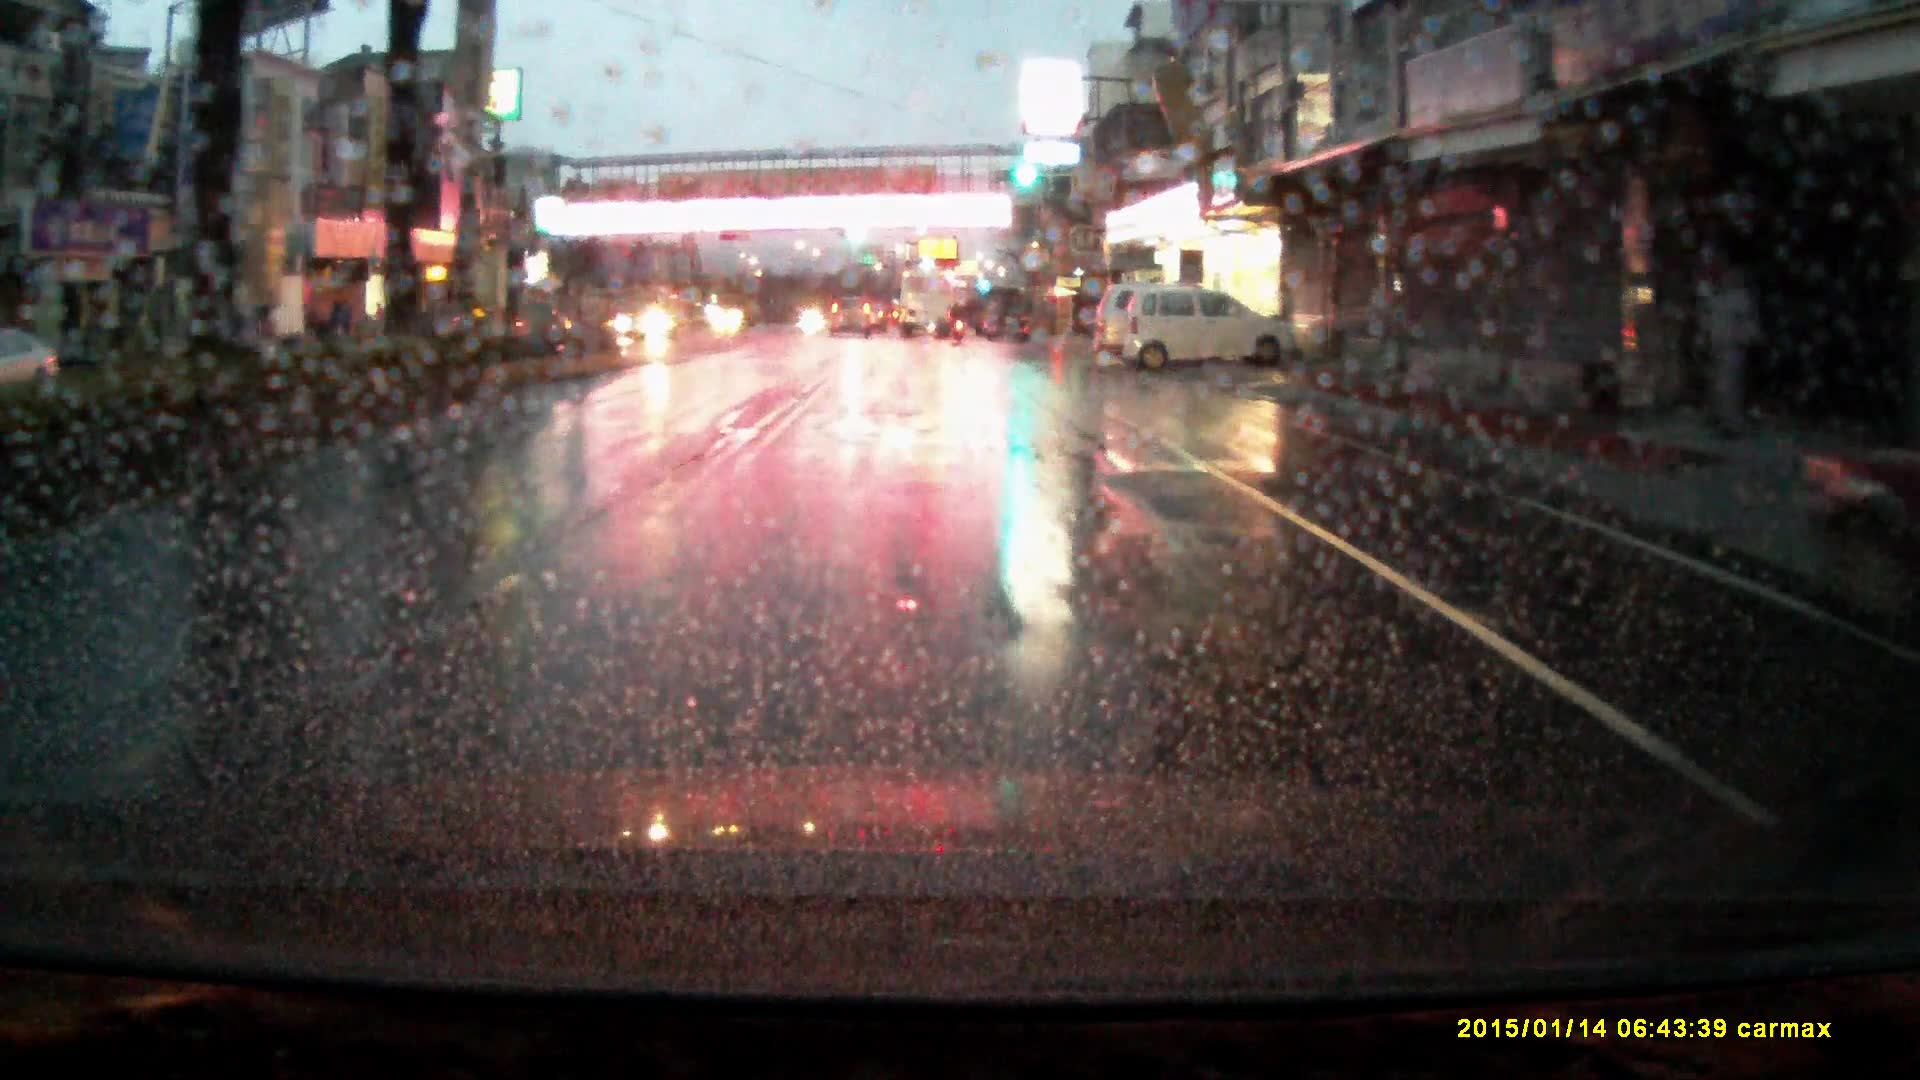rider: (951, 301, 971, 347)
vehicle: (1120, 286, 1297, 373), (180, 286, 291, 365), (1092, 288, 1195, 367), (1, 326, 65, 397), (612, 291, 688, 346), (899, 274, 951, 343), (980, 294, 1033, 345), (829, 300, 873, 345)
